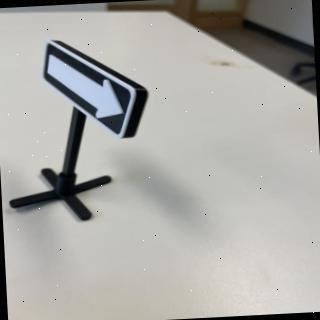sign_oneway_right: (41, 35, 152, 144)
